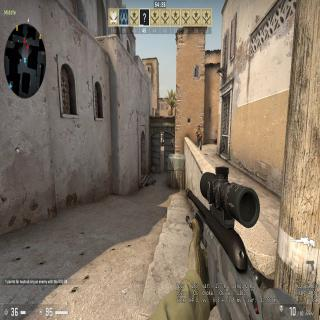T-Body: (195, 123, 203, 151), (151, 164, 156, 185)
T-Head: (198, 125, 201, 132), (152, 164, 154, 168)
